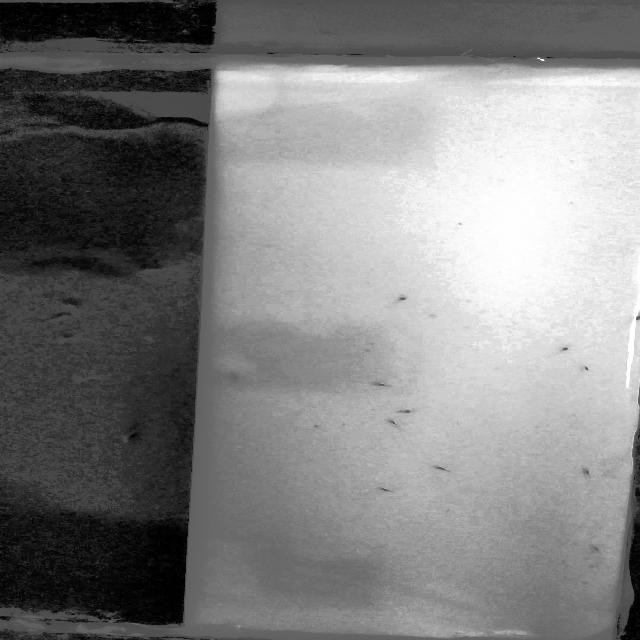shrimp: (384, 289, 416, 308), (576, 533, 606, 552), (223, 367, 250, 387), (429, 460, 453, 480), (367, 377, 398, 391), (578, 462, 602, 478), (576, 364, 603, 378), (372, 485, 405, 496), (382, 413, 399, 433), (395, 406, 422, 418), (551, 347, 579, 358)
